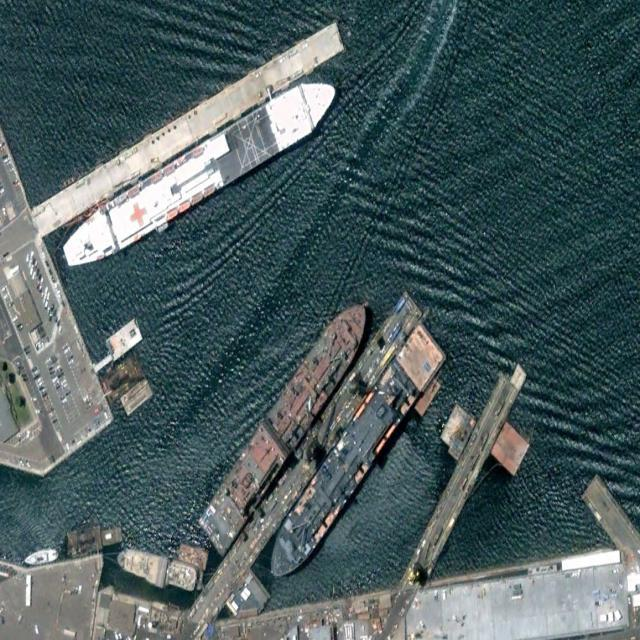Auxiliary Ships: (57, 64, 344, 281)
Commander: (259, 318, 447, 594), (194, 288, 379, 557)
Other Ship: (113, 544, 197, 596), (22, 546, 61, 568)
